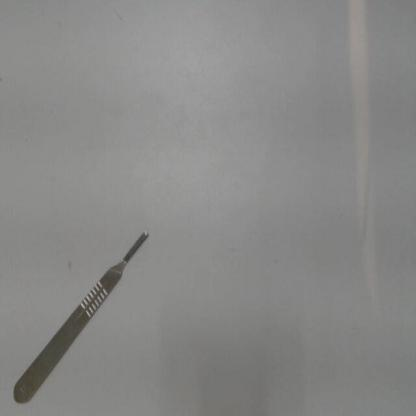No.4 BP Handle: (5, 220, 159, 412)
